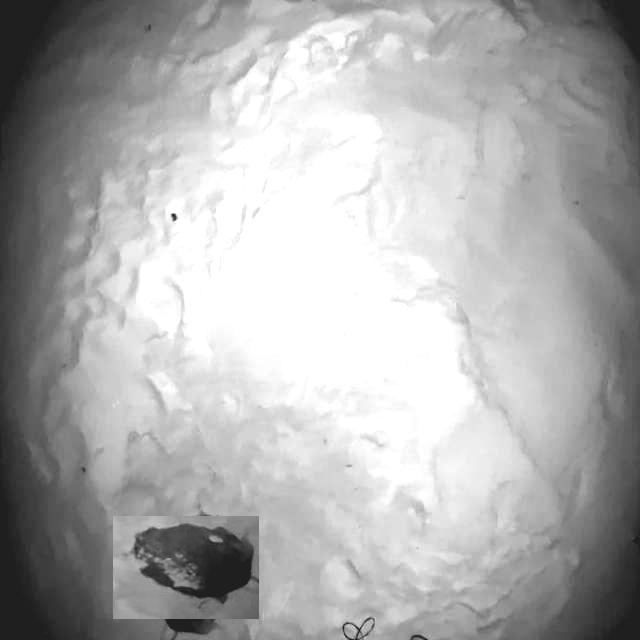Sea turtle: (123, 504, 249, 630)
